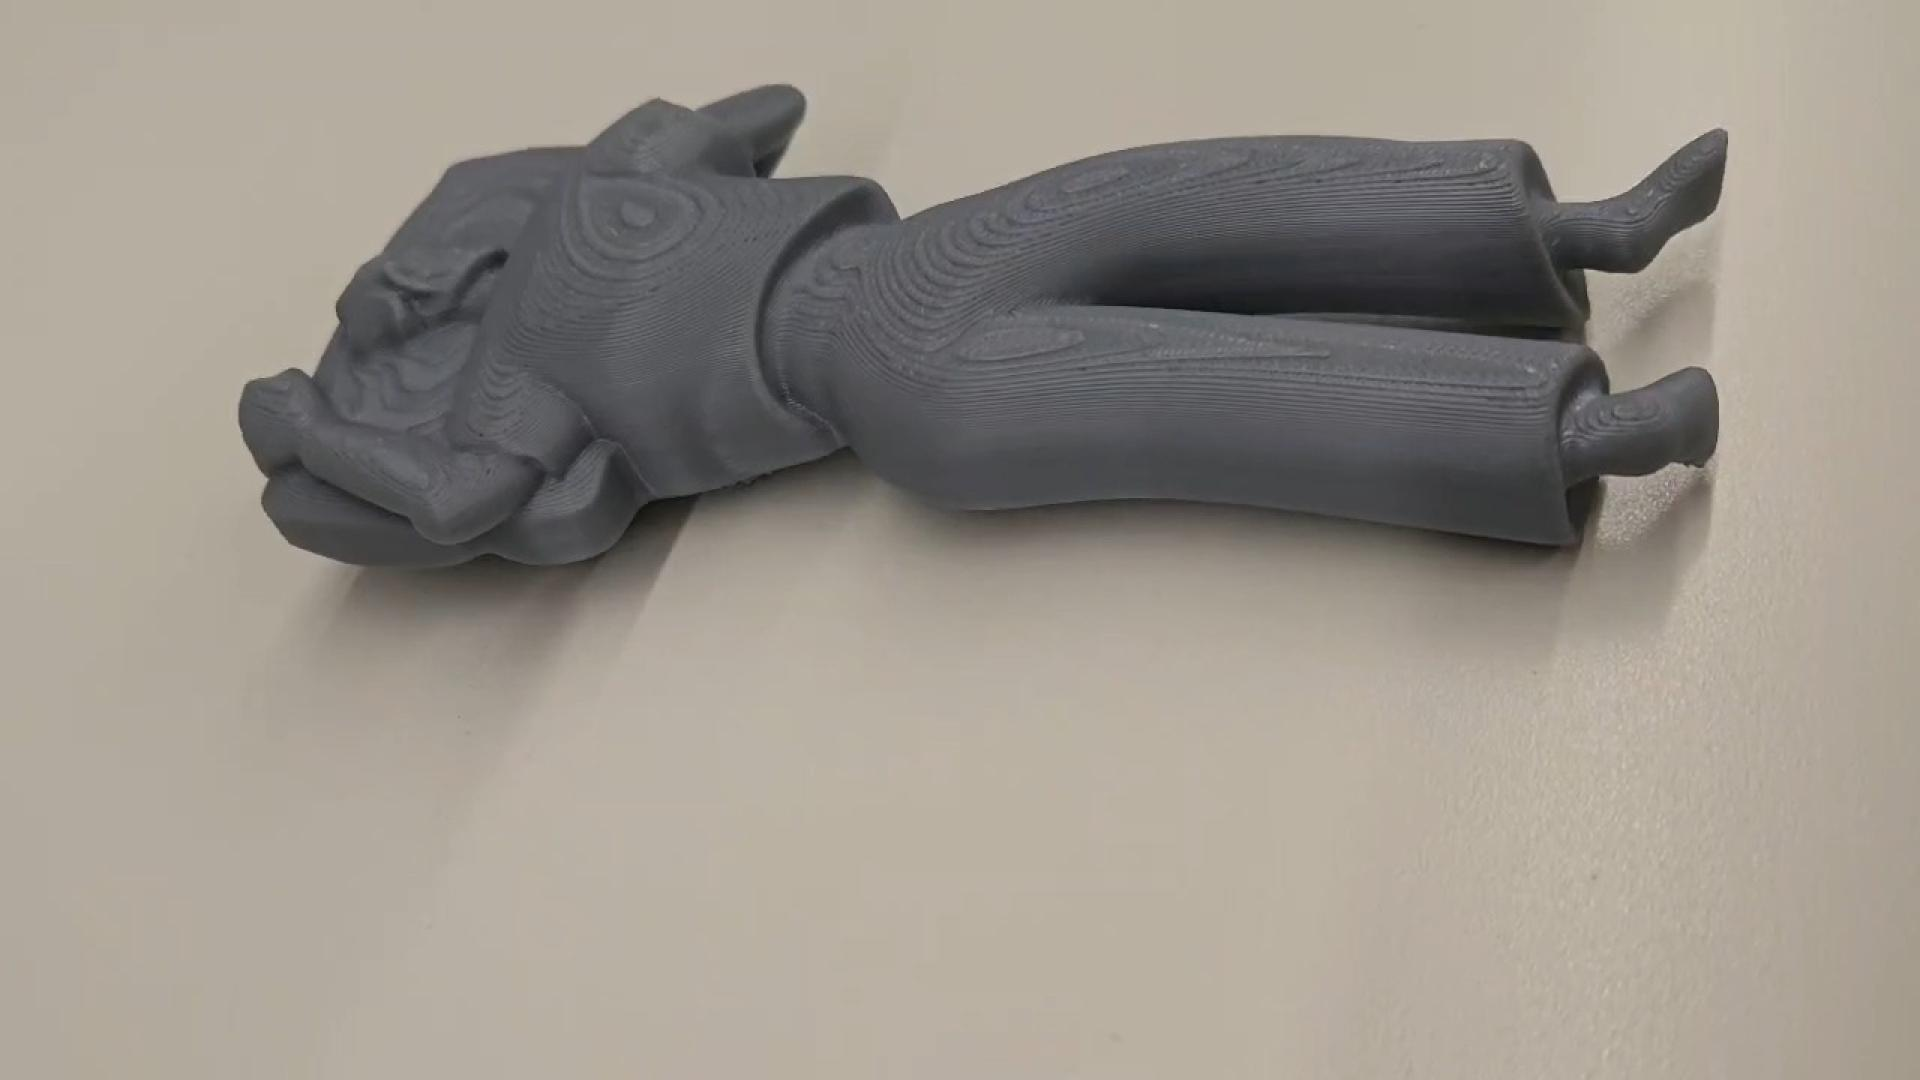Bad-style: (231, 87, 1741, 579)
